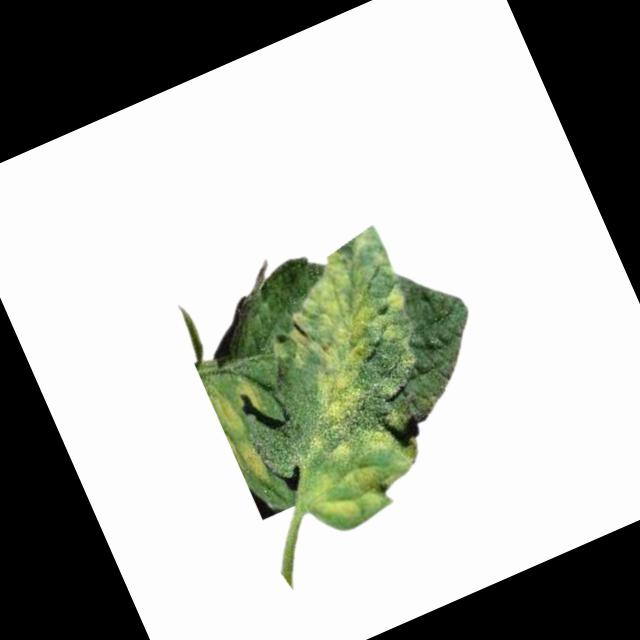Leaf_Mold: (241, 225, 442, 437), (284, 398, 441, 541), (204, 385, 248, 442), (235, 437, 271, 488), (233, 375, 264, 418)
